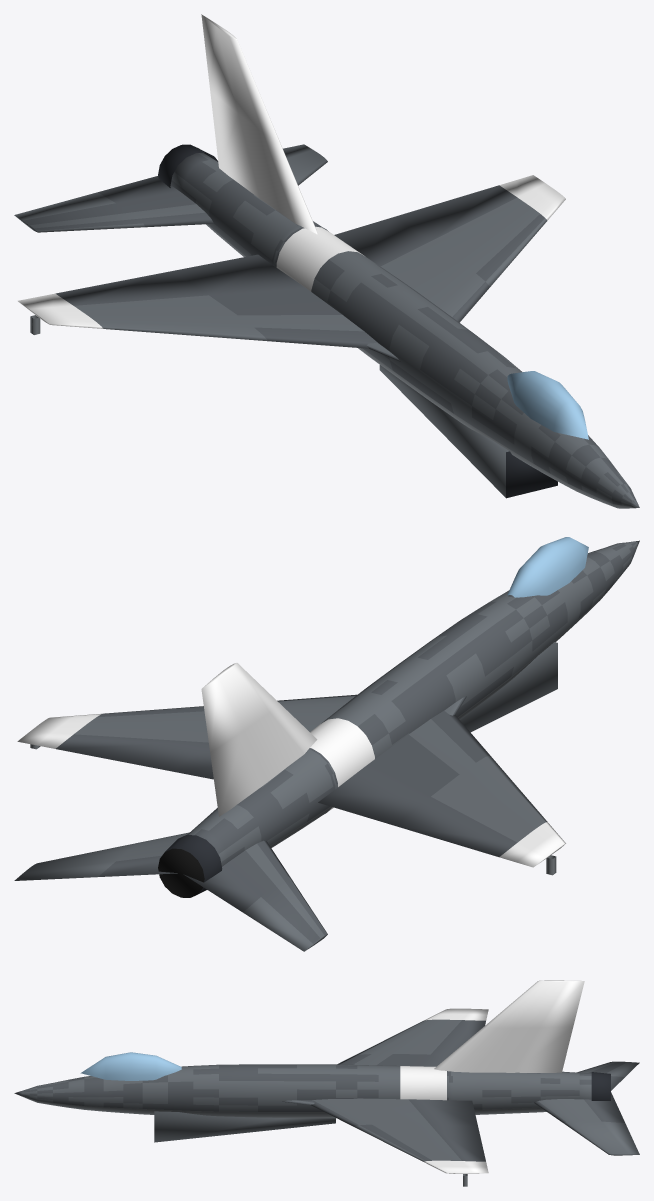
3 views of the same model, one above another, from view 1: azimuth 30°, elevation 25°; view 2: azimuth 150°, elevation 25°; view 3: azimuth 270°, elevation 25° (orthographic). The views are drawn at different scales.
Parts seen in each view (by area): view 1: body; view 2: body; view 3: body.
Boxes of the visible parts, box(x1,y1,x2,y2) form: body: box(14, 14, 639, 508); body: box(14, 537, 639, 951); body: box(14, 980, 639, 1186).
Size of the model in its own units: 10.08 by 4.35 by 16.08.
